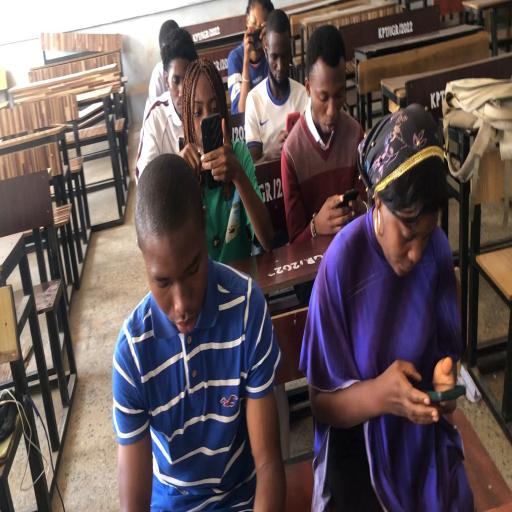Usingmobile: (300, 103, 477, 507), (111, 152, 288, 507), (180, 60, 274, 263), (280, 25, 366, 245), (134, 21, 200, 181), (244, 9, 310, 169), (226, 2, 276, 118)
